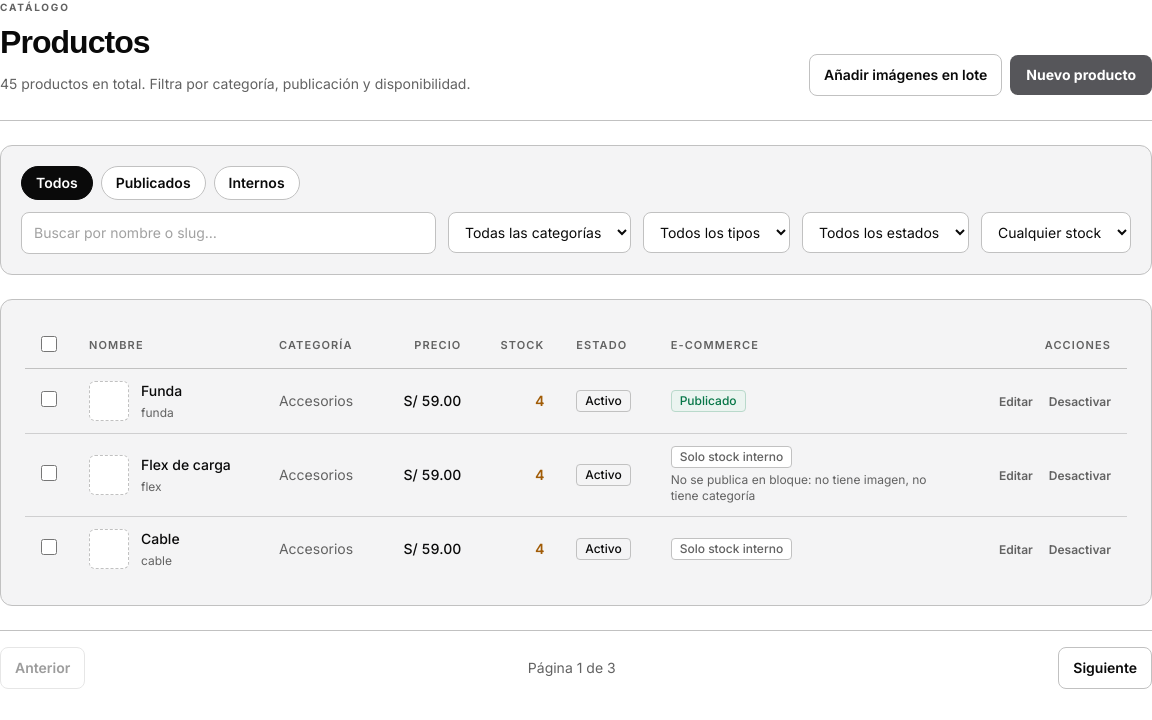
Test: la selección › cambiar un filtro quita la selección
This screenshot has width=1152, height=720.
Check: the link "Funda" is shown, box x1=141 y1=382 x2=182 y2=399
Click the checkbox named "Seleccionar los 3 productos de esta página" at (49, 344), box x1=41 y1=336 x2=57 y2=352
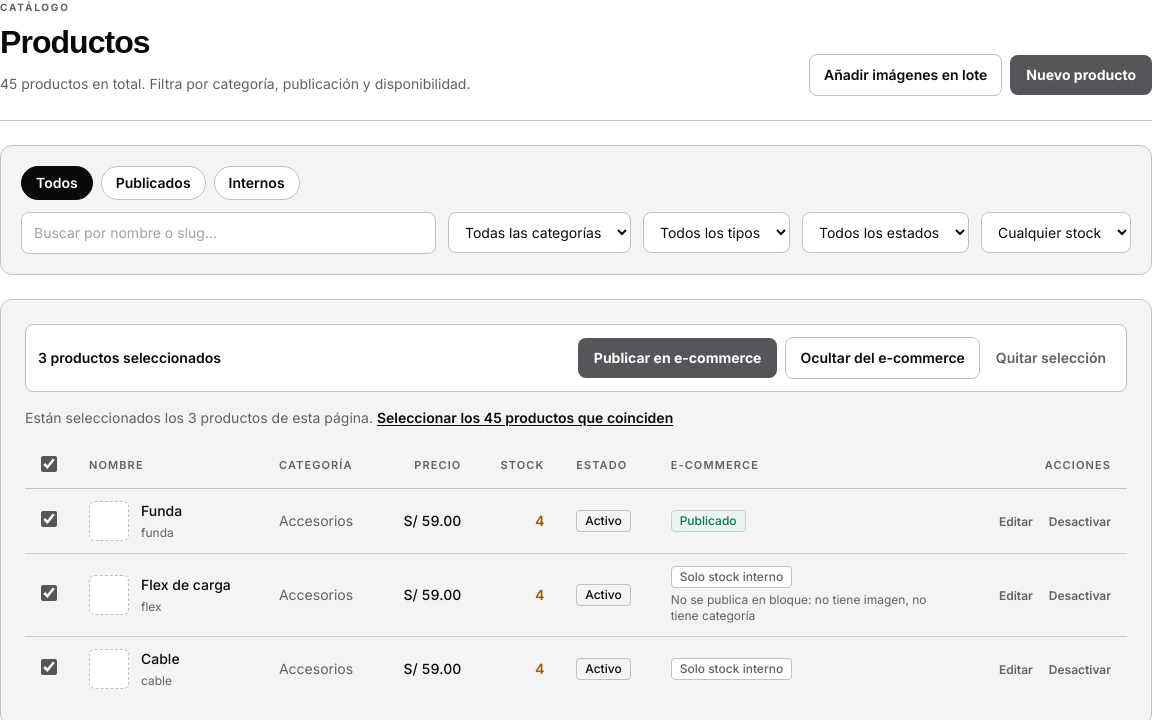
Click the button "Seleccionar los 45 productos que coinciden" at (525, 418), box x1=377 y1=408 x2=673 y2=428
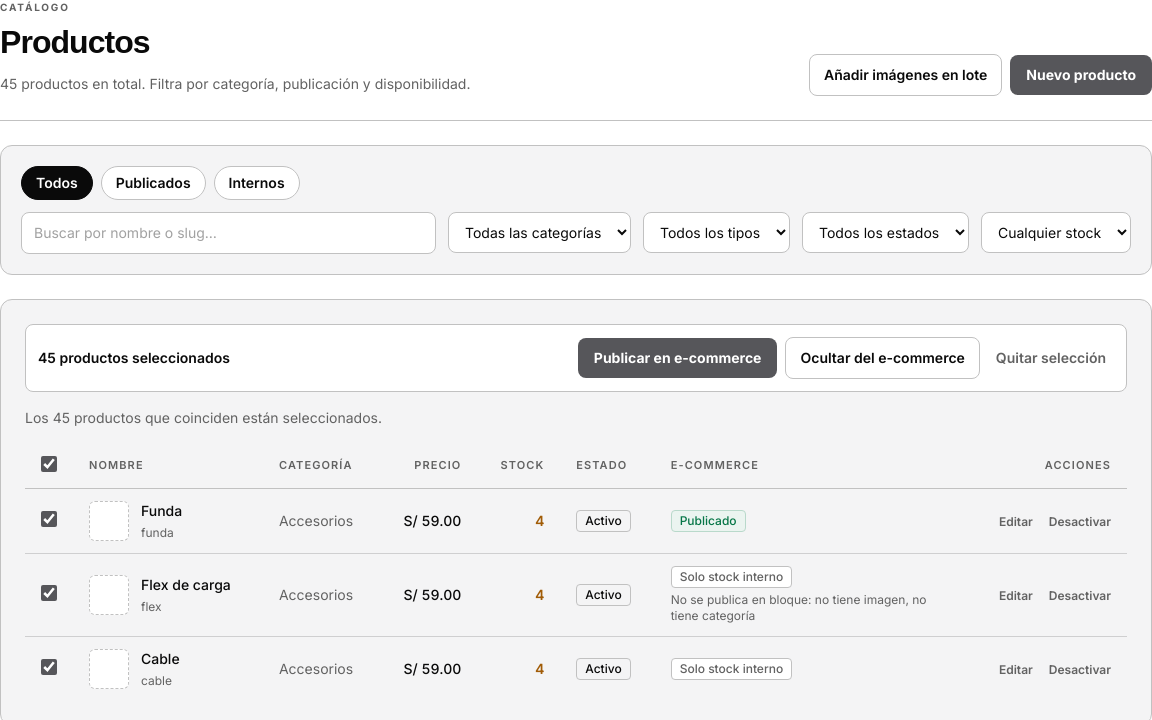
Click the button "Internos" at (257, 183), box x1=214 y1=166 x2=300 y2=200
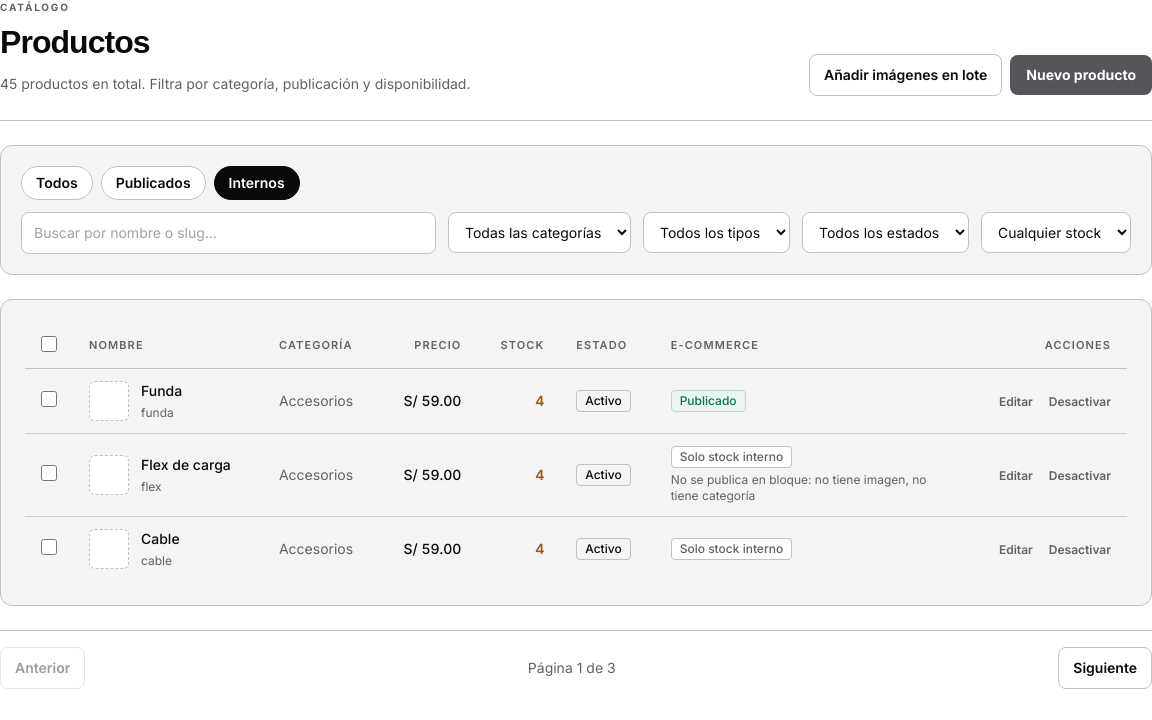
Check: the text "seleccionados" is gone
Check: the checkbox named "Seleccionar Funda" is not checked, box x1=41 y1=391 x2=57 y2=407
Check: the button "Publicar en e-commerce" is gone
